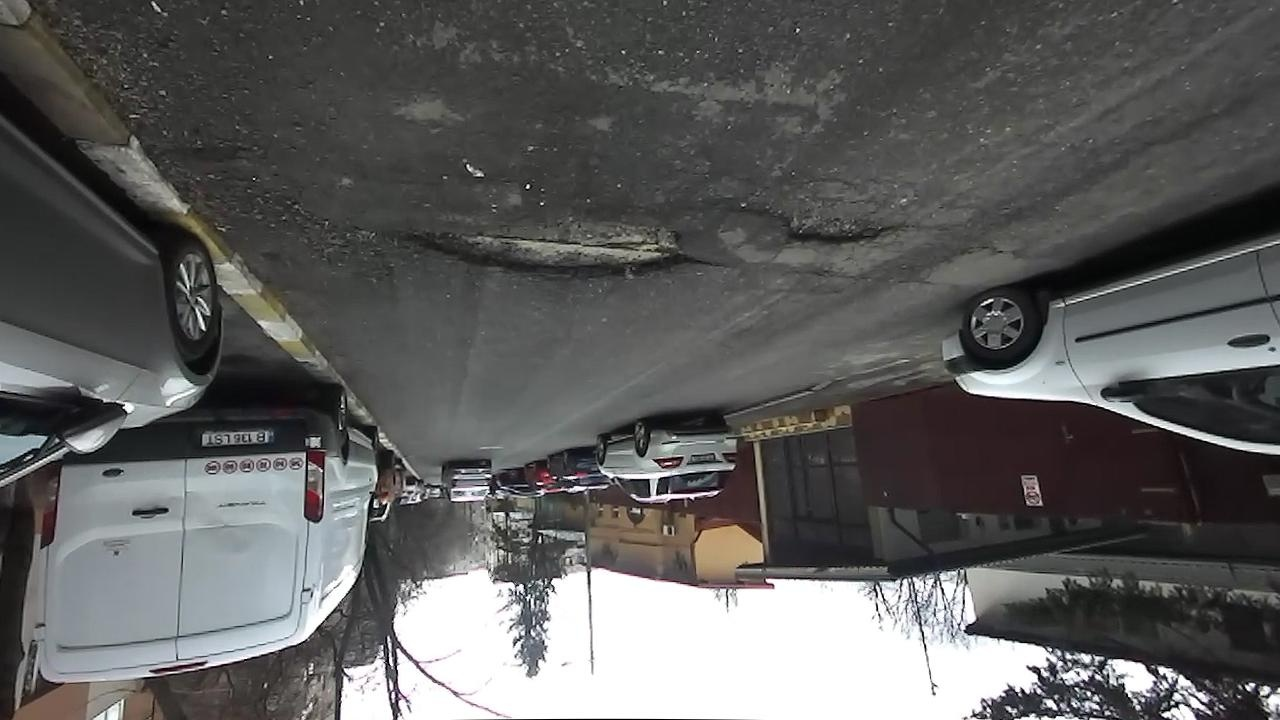pothole: (382, 212, 719, 289), (748, 207, 897, 251)
